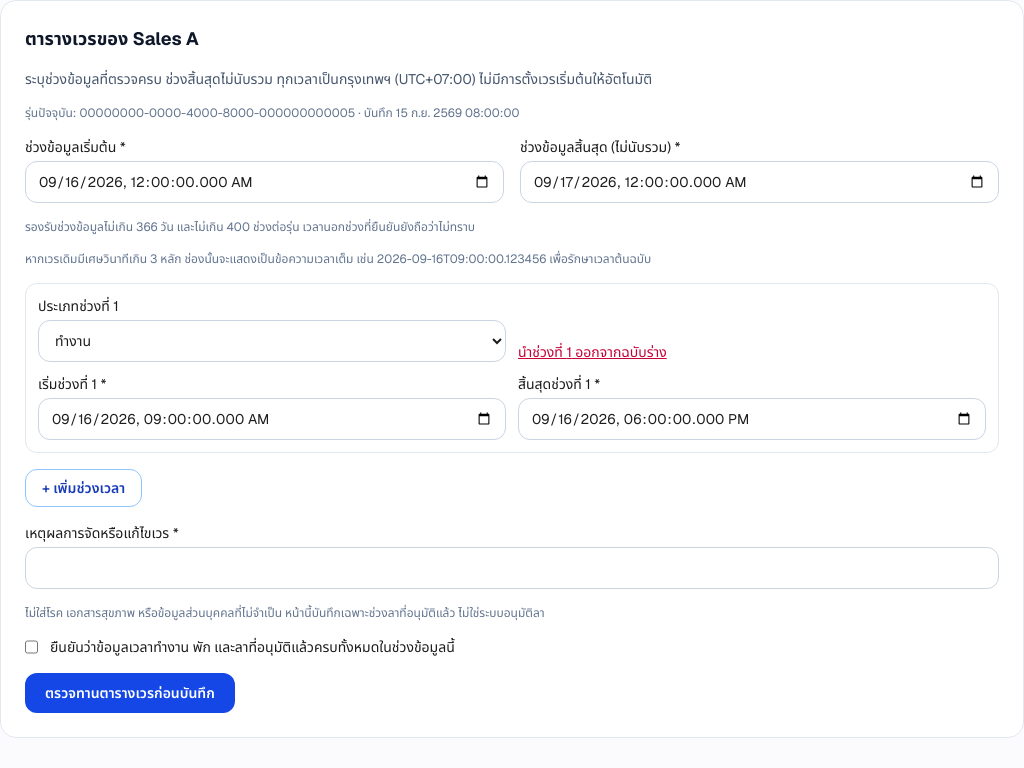
Test: Admin work schedule review and publish › stores before POST, uses expected version, and clears only after confirmed success
The image size is (1024, 768).
Type "จัดเวรเดือนนี้" into the field labelled "เหตุผลการจัดหรือแก้ไขเวร *" at (512, 568), box x1=25 y1=547 x2=999 y2=589
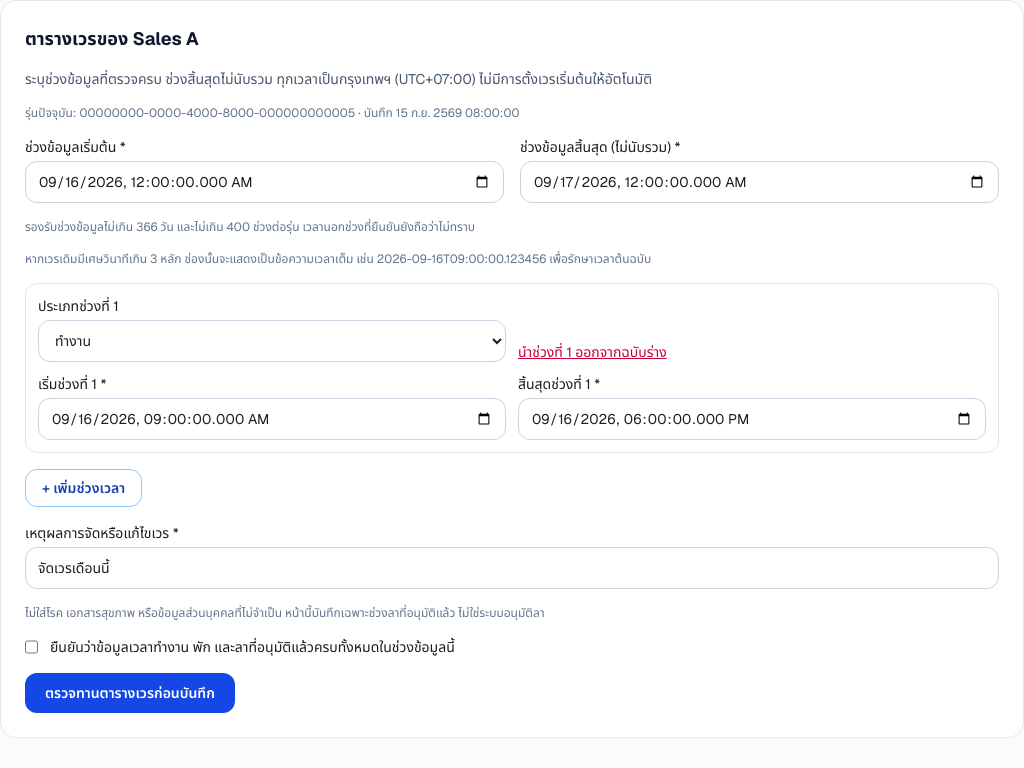
Click the checkbox at (32, 647), box x1=25 y1=637 x2=38 y2=657
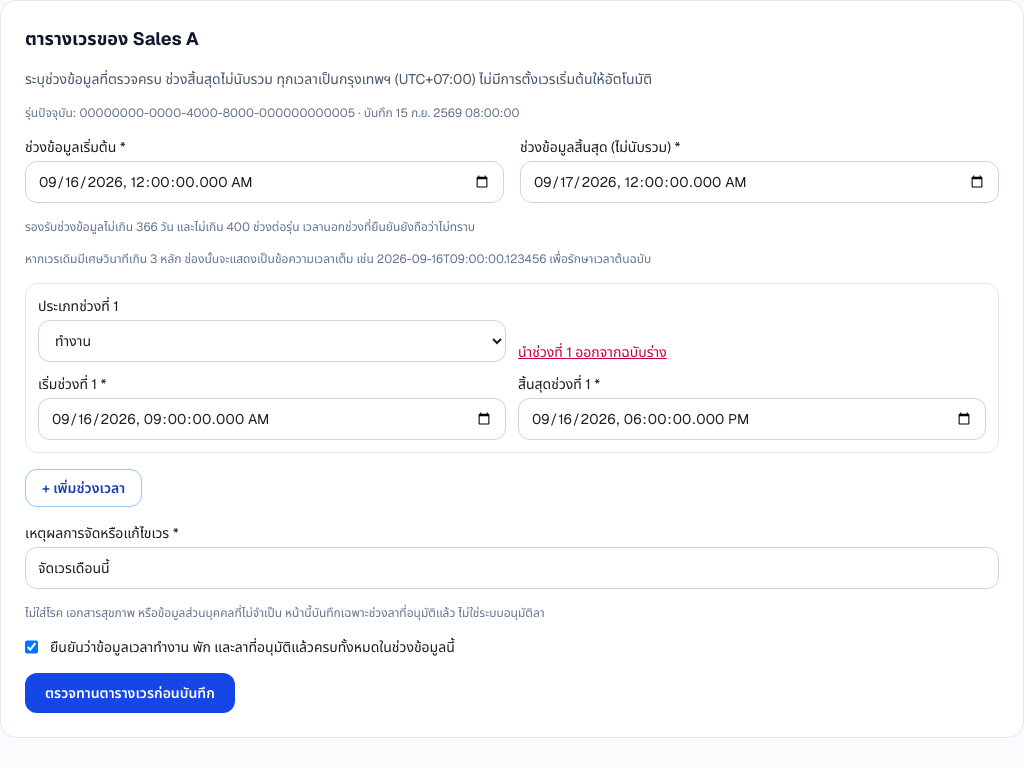
Submit the form named "จัดเวร Sales"
(page scrolled)
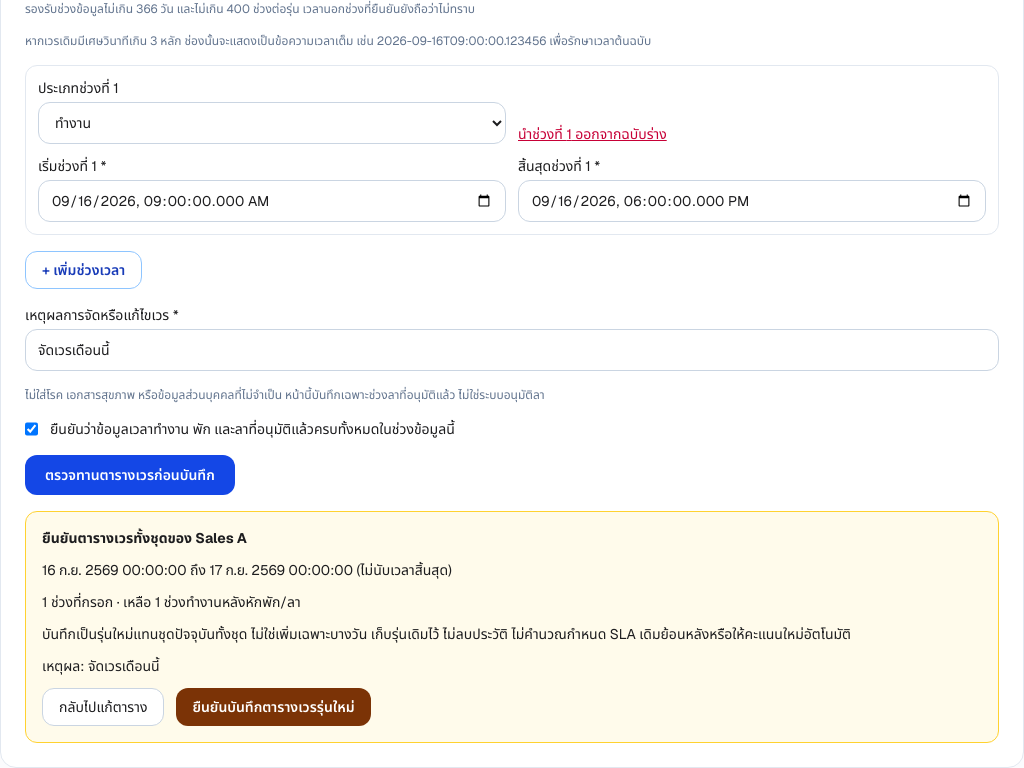
Click the button "ยืนยันบันทึกตารางเวรรุ่นใหม่" at (274, 707), box x1=176 y1=688 x2=371 y2=726
(page scrolled)
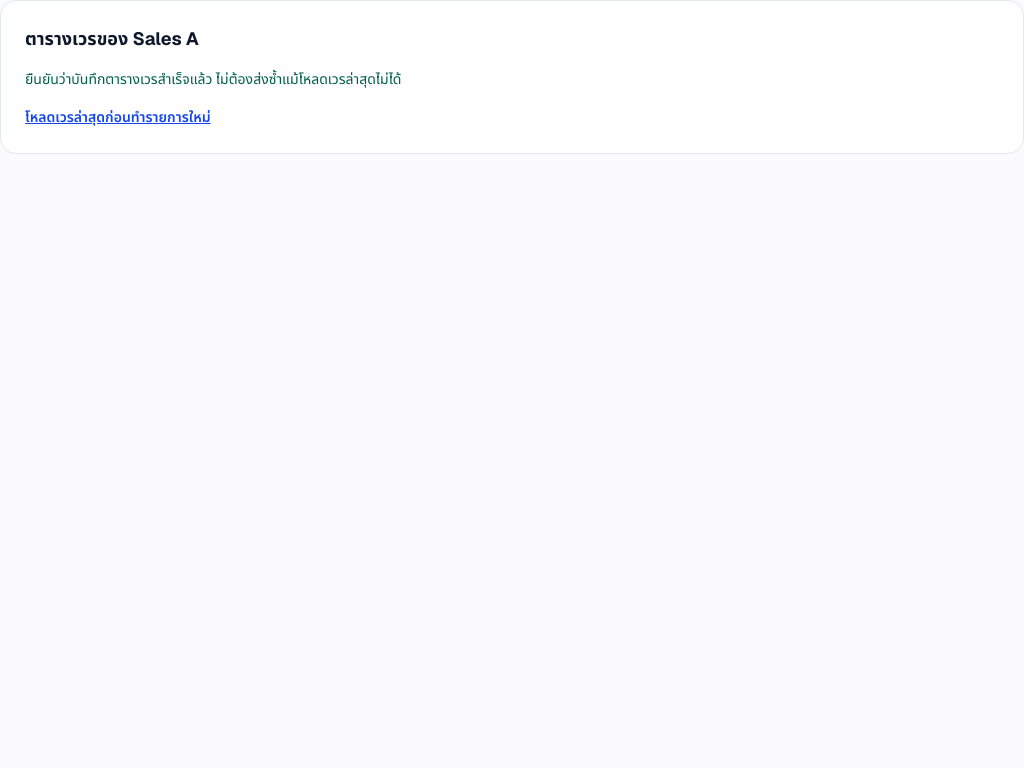
expect the message shows "สำเร็จแล้ว": met, box x1=25 y1=70 x2=401 y2=88
